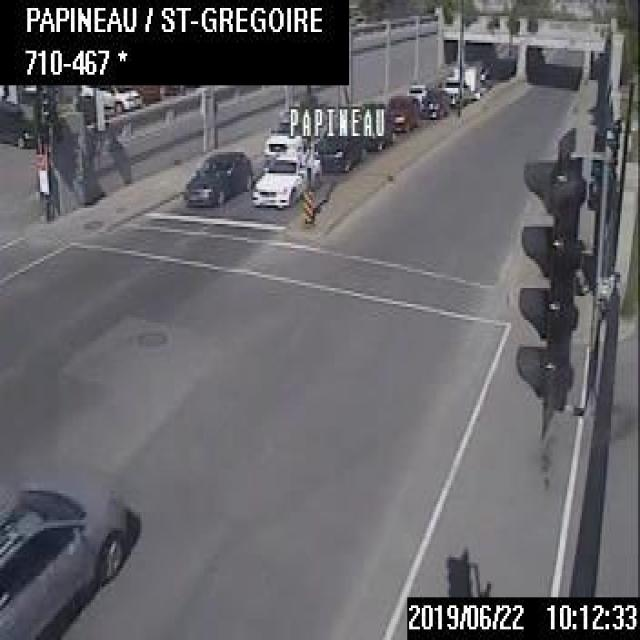vehicle: (0, 475, 133, 637), (180, 146, 251, 205), (252, 146, 322, 205), (314, 122, 366, 170), (0, 97, 45, 147), (264, 113, 310, 155), (79, 84, 141, 112), (383, 91, 419, 129), (362, 116, 394, 149), (419, 85, 449, 118), (442, 73, 468, 103), (408, 82, 424, 99)
